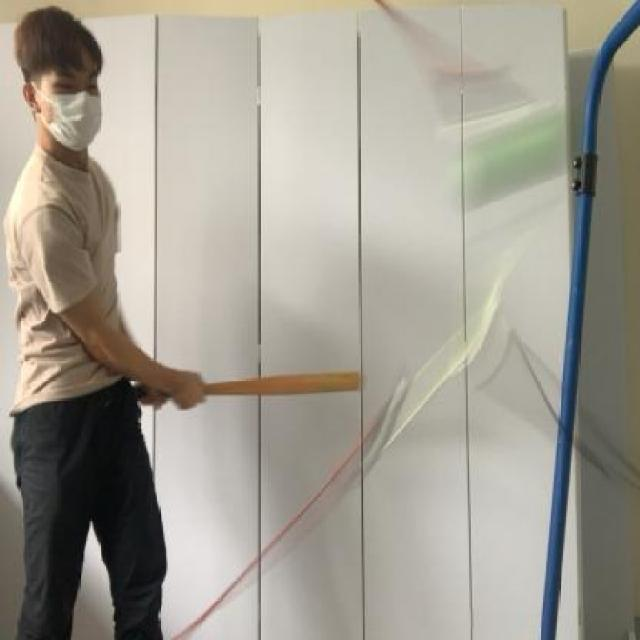baseball: (445, 110, 566, 204)
